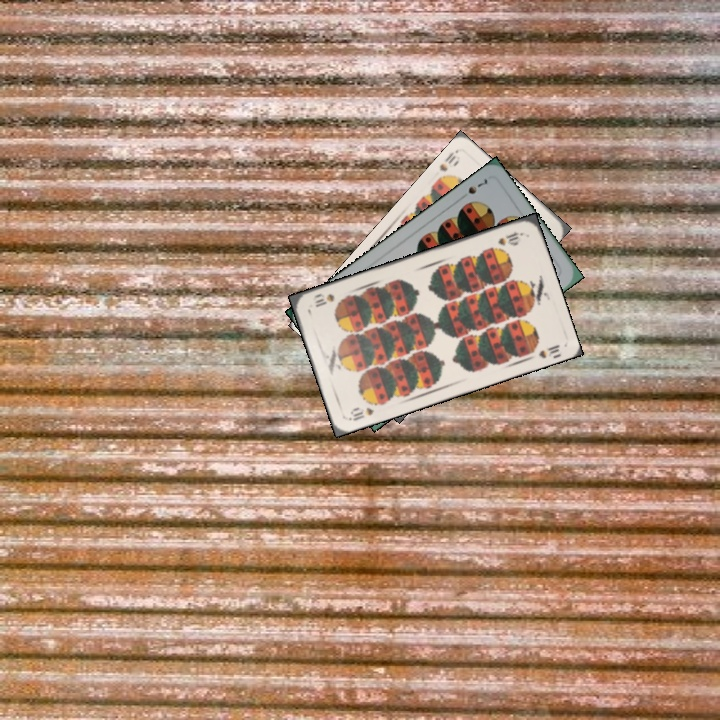S10: (433, 147, 462, 184), (494, 228, 525, 248), (345, 403, 376, 423)
S7: (464, 174, 490, 197)
